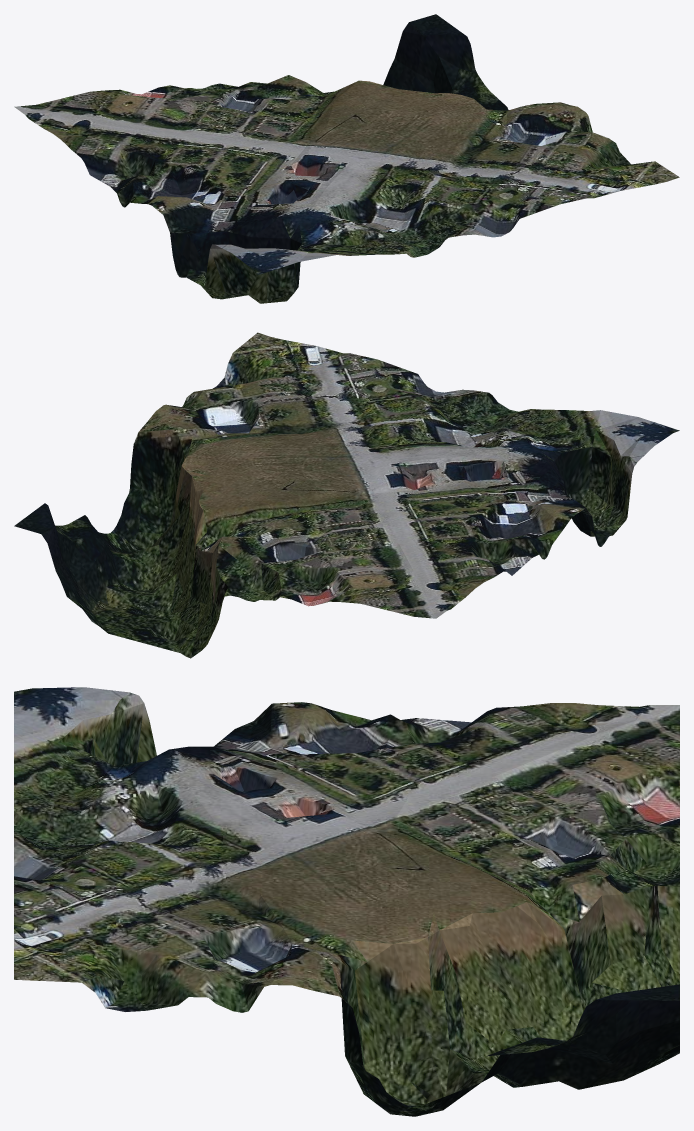
Rendered from map_15_8187_13785.dae.
The picture shows the model from 3 angles, top to bottom: view 1: azimuth 30°, elevation 25°; view 2: azimuth 150°, elevation 25°; view 3: azimuth 270°, elevation 25°; orthographic projection. The views are drawn at different scales.
Parts seen in each view (by area): view 1: Ter0; view 2: Ter0; view 3: Ter0.
Part boxes in pixels (x1,y1,x2,y2): Ter0: [14, 14, 679, 303]; Ter0: [14, 332, 679, 658]; Ter0: [14, 687, 679, 1116].
Bounding box in the file's own units: 63.87 × 63.88 × 17.65.
3 materials, 3 textured.
